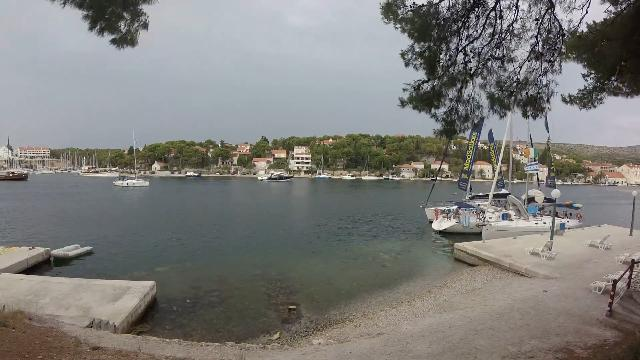Freighter: (1, 161, 34, 185)
Sailboat: (108, 169, 156, 189)
speedboat: (253, 168, 299, 184)
